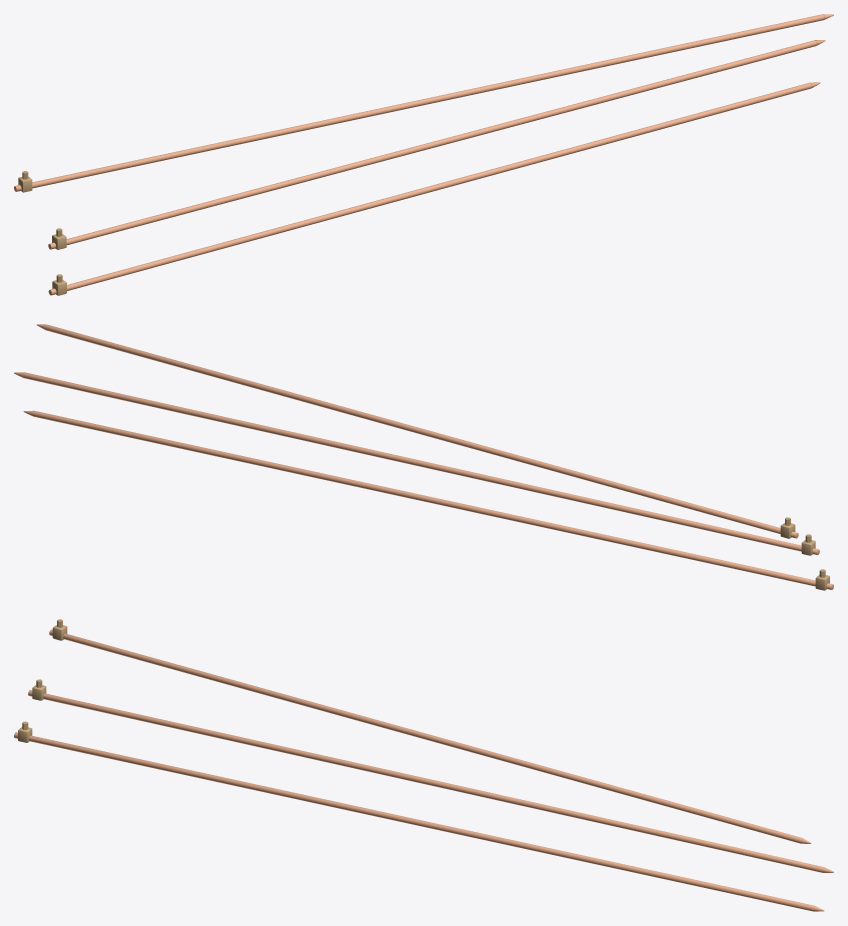
Rendered from ELE-ATR-001_anim.glb.
The picture shows the model from 3 angles, top to bottom: view 1: azimuth 30°, elevation 25°; view 2: azimuth 150°, elevation 25°; view 3: azimuth 330°, elevation 25°; orthographic projection.
Parts seen in each view (by area): view 1: ELE-ATR-001_anim2, ELE-ATR-001_anim1, ELE-ATR-001_anim0; view 2: ELE-ATR-001_anim0, ELE-ATR-001_anim1, ELE-ATR-001_anim2; view 3: ELE-ATR-001_anim0, ELE-ATR-001_anim1, ELE-ATR-001_anim2.
Boxes of the visible parts, x1,y1,x2,y2 form: ELE-ATR-001_anim2: (14,14,833,192); ELE-ATR-001_anim1: (48,40,825,249); ELE-ATR-001_anim0: (48,82,820,295); ELE-ATR-001_anim0: (23,410,833,590); ELE-ATR-001_anim1: (14,372,819,555); ELE-ATR-001_anim2: (37,324,798,538); ELE-ATR-001_anim0: (14,721,824,911); ELE-ATR-001_anim1: (28,679,833,872); ELE-ATR-001_anim2: (49,619,811,843).
Size of the model in its own units: 2.45 by 0.2792 by 0.2157.
